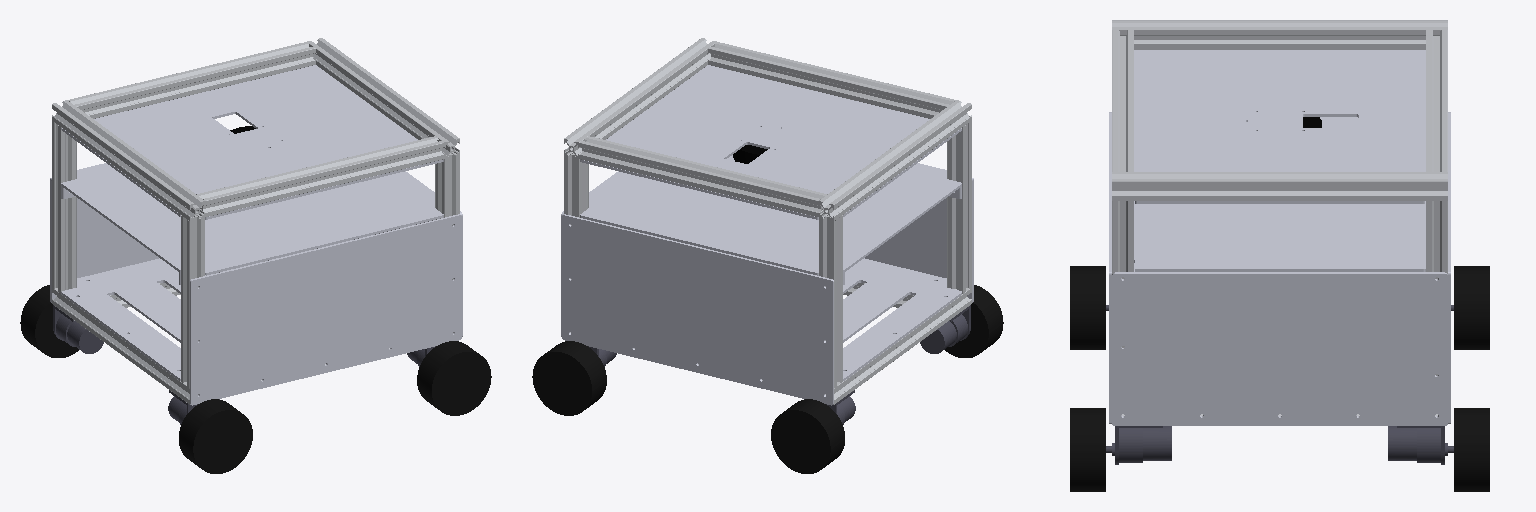
robot.urdf — more_tea:
<?xml version="1.0"?>
<!-- GENERATED by tools/generate_urdf.py from Fusion 360 "MoreTea's Body v5" (MORE-TEA / Navigation). Do not hand-edit; edit the generator or the Fusion model.
     Frames (REP-103): x forward = Fusion +X, y left = Fusion -Z, z up = Fusion +Y.  Units: metres, kg, radians.
     Fusion "Rigid Group 2" members -> fixed joints on base_link.  Fusion "Revolute 3..6" (wheel <-> motor mount) -> continuous joints. -->
<robot name="more_tea">
  <material name="aluminium"><color rgba="0.78 0.79 0.81 1"/></material>
  <material name="panel"><color rgba="0.82 0.83 0.88 1"/></material>
  <material name="rubber"><color rgba="0.12 0.12 0.12 1"/></material>
  <material name="motor"><color rgba="0.35 0.35 0.40 1"/></material>
  <material name="lidar"><color rgba="0.05 0.05 0.05 1"/></material>

  <!-- ground projection (REP-105) -->
  <link name="base_footprint"/>
  <joint name="base_footprint_joint" type="fixed">
    <parent link="base_footprint"/>
    <child link="base_link"/>
    <origin xyz="0 0 0.0375" rpy="0 0 0"/>
  </joint>

  <!-- chassis: the whole Fusion rigid group as ONE rigid body (aggregate inertial + box collision); the part links below are visual-only frames -->
  <link name="base_link">
    <inertial>
      <origin xyz="0.005914 -0.000041 0.148923" rpy="0 0 0"/>
      <mass value="5.084821"/>
      <inertia ixx="9.660358e-02" ixy="-1.139648e-06" ixz="1.126189e-03" iyy="1.051154e-01" iyz="3.052769e-05" izz="1.098142e-01"/>
    </inertial>
    <collision>
      <origin xyz="0.001497 0.000000 0.154000" rpy="0 0 0"/>
      <geometry><box size="0.343025 0.306020 0.240020"/></geometry>
    </collision>
  </link>

  <!-- ===== Fusion Rigid Group members : fixed joints ===== -->
  <link name="bottom_panel_link">
    <visual>
      <origin xyz="0.000011 0.000000 -0.001500" rpy="1.570796 0.000000 1.570796"/>
      <geometry><mesh filename="package://more_tea_base_description/meshes/visual/bottom_panel.stl"/></geometry>
      <material name="panel"/>
    </visual>
  </link>
  <joint name="bottom_panel_joint" type="fixed">
    <parent link="base_link"/>
    <child link="bottom_panel_link"/>
    <origin xyz="-0.000011 0.000129 0.055500" rpy="0 0 0"/>
  </joint>
  <link name="fb_side_panel_link">
    <visual>
      <origin xyz="-0.001500 0.000000 -0.000044" rpy="1.570796 0.000000 0.000000"/>
      <geometry><mesh filename="package://more_tea_base_description/meshes/visual/fb_side_panel.stl"/></geometry>
      <material name="panel"/>
    </visual>
  </link>
  <joint name="fb_side_panel_joint" type="fixed">
    <parent link="base_link"/>
    <child link="fb_side_panel_link"/>
    <origin xyz="0.171500 0.000000 0.109044" rpy="0 0 0"/>
  </joint>
  <link name="front_left_motor_link">
    <visual>
      <origin xyz="0.000000 0.025209 -0.009733" rpy="0.000000 0.000000 1.570796"/>
      <geometry><mesh filename="package://more_tea_base_description/meshes/visual/shared_moteur_v8_v2.stl"/></geometry>
      <material name="motor"/>
    </visual>
  </link>
  <joint name="front_left_motor_joint" type="fixed">
    <parent link="base_link"/>
    <child link="front_left_motor_link"/>
    <origin xyz="0.149651 0.124591 0.009733" rpy="0 0 0"/>
  </joint>
  <link name="front_right_motor_link">
    <visual>
      <origin xyz="0.000000 -0.025209 -0.009733" rpy="-3.141593 0.000000 -1.570796"/>
      <geometry><mesh filename="package://more_tea_base_description/meshes/visual/shared_moteur_v8_v2_2.stl"/></geometry>
      <material name="motor"/>
    </visual>
  </link>
  <joint name="front_right_motor_joint" type="fixed">
    <parent link="base_link"/>
    <child link="front_right_motor_link"/>
    <origin xyz="0.149651 -0.124591 0.009733" rpy="0 0 0"/>
  </joint>
  <link name="lidar_holder_link">
    <visual>
      <origin xyz="0.000000 0.000681 -0.001500" rpy="1.570796 0.000000 -1.570796"/>
      <geometry><mesh filename="package://more_tea_base_description/meshes/visual/lidar_holder.stl"/></geometry>
      <material name="panel"/>
    </visual>
  </link>
  <joint name="lidar_holder_joint" type="fixed">
    <parent link="base_link"/>
    <child link="lidar_holder_link"/>
    <origin xyz="0.000000 -0.000552 0.252500" rpy="0 0 0"/>
  </joint>
  <link name="lr_side_panel_left_link">
    <visual>
      <origin xyz="0.000000 0.001500 -0.000037" rpy="1.570796 0.000000 0.000000"/>
      <geometry><mesh filename="package://more_tea_base_description/meshes/visual/shared_lr_side_panel_v5.stl"/></geometry>
      <material name="panel"/>
    </visual>
  </link>
  <joint name="lr_side_panel_left_joint" type="fixed">
    <parent link="base_link"/>
    <child link="lr_side_panel_left_link"/>
    <origin xyz="0.000000 0.151500 0.109037" rpy="0 0 0"/>
  </joint>
  <link name="lr_side_panel_right_link">
    <visual>
      <origin xyz="0.000000 0.001500 -0.000037" rpy="1.570796 0.000000 0.000000"/>
      <geometry><mesh filename="package://more_tea_base_description/meshes/visual/shared_lr_side_panel_v5.stl"/></geometry>
      <material name="panel"/>
    </visual>
  </link>
  <joint name="lr_side_panel_right_joint" type="fixed">
    <parent link="base_link"/>
    <child link="lr_side_panel_right_link"/>
    <origin xyz="0.000000 -0.151500 0.109037" rpy="0 0 0"/>
  </joint>
  <link name="middle_panel_link">
    <visual>
      <origin xyz="-0.000009 0.000012 -0.001338" rpy="1.570796 0.000000 1.570796"/>
      <geometry><mesh filename="package://more_tea_base_description/meshes/visual/middle_panel.stl"/></geometry>
      <material name="panel"/>
    </visual>
  </link>
  <joint name="middle_panel_joint" type="fixed">
    <parent link="base_link"/>
    <child link="middle_panel_link"/>
    <origin xyz="0.000003 0.000135 0.185467" rpy="0 0 0"/>
  </joint>
  <link name="post_front_left_link">
    <visual>
      <origin xyz="0.000000 0.000037 0.000000" rpy="-1.570796 0.000000 0.000000"/>
      <geometry><mesh filename="package://more_tea_base_description/meshes/visual/shared_2020_200mm_base_v2.stl"/></geometry>
      <material name="aluminium"/>
    </visual>
  </link>
  <joint name="post_front_left_joint" type="fixed">
    <parent link="base_link"/>
    <child link="post_front_left_link"/>
    <origin xyz="0.160000 0.139963 0.154000" rpy="0 0 0"/>
  </joint>
  <link name="post_front_right_link">
    <visual>
      <origin xyz="0.000000 0.000037 0.000000" rpy="-1.570796 0.000000 0.000000"/>
      <geometry><mesh filename="package://more_tea_base_description/meshes/visual/shared_2020_200mm_base_v2.stl"/></geometry>
      <material name="aluminium"/>
    </visual>
  </link>
  <joint name="post_front_right_joint" type="fixed">
    <parent link="base_link"/>
    <child link="post_front_right_link"/>
    <origin xyz="0.160000 -0.140037 0.154000" rpy="0 0 0"/>
  </joint>
  <link name="post_rear_left_link">
    <visual>
      <origin xyz="0.000000 0.000037 0.000000" rpy="-1.570796 0.000000 0.000000"/>
      <geometry><mesh filename="package://more_tea_base_description/meshes/visual/shared_2020_200mm_base_v2.stl"/></geometry>
      <material name="aluminium"/>
    </visual>
  </link>
  <joint name="post_rear_left_joint" type="fixed">
    <parent link="base_link"/>
    <child link="post_rear_left_link"/>
    <origin xyz="-0.160000 0.139963 0.154000" rpy="0 0 0"/>
  </joint>
  <link name="post_rear_right_link">
    <visual>
      <origin xyz="0.000000 0.000037 0.000000" rpy="-1.570796 0.000000 0.000000"/>
      <geometry><mesh filename="package://more_tea_base_description/meshes/visual/shared_2020_200mm_base_v2.stl"/></geometry>
      <material name="aluminium"/>
    </visual>
  </link>
  <joint name="post_rear_right_joint" type="fixed">
    <parent link="base_link"/>
    <child link="post_rear_right_link"/>
    <origin xyz="-0.160000 -0.140037 0.154000" rpy="0 0 0"/>
  </joint>
  <link name="rail_bottom_front_link">
    <visual>
      <origin xyz="0.000000 -0.150000 -0.000037" rpy="0.000000 0.000000 0.000000"/>
      <geometry><mesh filename="package://more_tea_base_description/meshes/visual/shared_2020_300mm_v1.stl"/></geometry>
      <material name="aluminium"/>
    </visual>
  </link>
  <joint name="rail_bottom_front_joint" type="fixed">
    <parent link="base_link"/>
    <child link="rail_bottom_front_link"/>
    <origin xyz="0.160000 0.000000 0.044037" rpy="0 0 0"/>
  </joint>
  <link name="rail_bottom_left_inner_link">
    <visual>
      <origin xyz="0.150000 0.000000 -0.000037" rpy="0.000000 0.000000 1.570796"/>
      <geometry><mesh filename="package://more_tea_base_description/meshes/visual/shared_2020_300mm_v1.stl"/></geometry>
      <material name="aluminium"/>
    </visual>
  </link>
  <joint name="rail_bottom_left_inner_joint" type="fixed">
    <parent link="base_link"/>
    <child link="rail_bottom_left_inner_link"/>
    <origin xyz="0.000000 0.110000 0.044037" rpy="0 0 0"/>
  </joint>
  <link name="rail_bottom_left_outer_link">
    <visual>
      <origin xyz="0.150000 0.000000 -0.000037" rpy="0.000000 0.000000 1.570796"/>
      <geometry><mesh filename="package://more_tea_base_description/meshes/visual/shared_2020_300mm_v1.stl"/></geometry>
      <material name="aluminium"/>
    </visual>
  </link>
  <joint name="rail_bottom_left_outer_joint" type="fixed">
    <parent link="base_link"/>
    <child link="rail_bottom_left_outer_link"/>
    <origin xyz="0.000000 0.140000 0.044037" rpy="0 0 0"/>
  </joint>
  <link name="rail_bottom_rear_link">
    <visual>
      <origin xyz="0.000000 -0.150000 -0.000037" rpy="0.000000 0.000000 0.000000"/>
      <geometry><mesh filename="package://more_tea_base_description/meshes/visual/shared_2020_300mm_v1.stl"/></geometry>
      <material name="aluminium"/>
    </visual>
  </link>
  <joint name="rail_bottom_rear_joint" type="fixed">
    <parent link="base_link"/>
    <child link="rail_bottom_rear_link"/>
    <origin xyz="-0.160000 0.000000 0.044037" rpy="0 0 0"/>
  </joint>
  <link name="rail_bottom_right_inner_link">
    <visual>
      <origin xyz="-0.150000 0.000000 -0.000037" rpy="0.000000 0.000000 -1.570796"/>
      <geometry><mesh filename="package://more_tea_base_description/meshes/visual/shared_2020_300mm_v1.stl"/></geometry>
      <material name="aluminium"/>
    </visual>
  </link>
  <joint name="rail_bottom_right_inner_joint" type="fixed">
    <parent link="base_link"/>
    <child link="rail_bottom_right_inner_link"/>
    <origin xyz="0.000000 -0.110000 0.044037" rpy="0 0 0"/>
  </joint>
  <link name="rail_bottom_right_outer_link">
    <visual>
      <origin xyz="-0.150000 0.000000 -0.000037" rpy="0.000000 0.000000 -1.570796"/>
      <geometry><mesh filename="package://more_tea_base_description/meshes/visual/shared_2020_300mm_v1.stl"/></geometry>
      <material name="aluminium"/>
    </visual>
  </link>
  <joint name="rail_bottom_right_outer_joint" type="fixed">
    <parent link="base_link"/>
    <child link="rail_bottom_right_outer_link"/>
    <origin xyz="0.000000 -0.140000 0.044037" rpy="0 0 0"/>
  </joint>
  <link name="rail_top_front_link">
    <visual>
      <origin xyz="0.000000 -0.150000 -0.000037" rpy="0.000000 0.000000 0.000000"/>
      <geometry><mesh filename="package://more_tea_base_description/meshes/visual/shared_2020_300mm_v1.stl"/></geometry>
      <material name="aluminium"/>
    </visual>
  </link>
  <joint name="rail_top_front_joint" type="fixed">
    <parent link="base_link"/>
    <child link="rail_top_front_link"/>
    <origin xyz="0.160000 0.000000 0.264037" rpy="0 0 0"/>
  </joint>
  <link name="rail_top_left_link">
    <visual>
      <origin xyz="0.150000 0.000000 -0.000037" rpy="0.000000 0.000000 1.570796"/>
      <geometry><mesh filename="package://more_tea_base_description/meshes/visual/shared_2020_300mm_v1.stl"/></geometry>
      <material name="aluminium"/>
    </visual>
  </link>
  <joint name="rail_top_left_joint" type="fixed">
    <parent link="base_link"/>
    <child link="rail_top_left_link"/>
    <origin xyz="0.000000 0.140000 0.264037" rpy="0 0 0"/>
  </joint>
  <link name="rail_top_rear_link">
    <visual>
      <origin xyz="0.000000 -0.150000 -0.000037" rpy="0.000000 0.000000 0.000000"/>
      <geometry><mesh filename="package://more_tea_base_description/meshes/visual/shared_2020_300mm_v1.stl"/></geometry>
      <material name="aluminium"/>
    </visual>
  </link>
  <joint name="rail_top_rear_joint" type="fixed">
    <parent link="base_link"/>
    <child link="rail_top_rear_link"/>
    <origin xyz="-0.160000 0.000000 0.264037" rpy="0 0 0"/>
  </joint>
  <link name="rail_top_right_link">
    <visual>
      <origin xyz="-0.150000 0.000000 -0.000037" rpy="0.000000 0.000000 -1.570796"/>
      <geometry><mesh filename="package://more_tea_base_description/meshes/visual/shared_2020_300mm_v1.stl"/></geometry>
      <material name="aluminium"/>
    </visual>
  </link>
  <joint name="rail_top_right_joint" type="fixed">
    <parent link="base_link"/>
    <child link="rail_top_right_link"/>
    <origin xyz="0.000000 -0.140000 0.264037" rpy="0 0 0"/>
  </joint>
  <link name="rear_left_motor_link">
    <visual>
      <origin xyz="0.000000 0.025209 -0.009733" rpy="-3.141593 0.000000 1.570796"/>
      <geometry><mesh filename="package://more_tea_base_description/meshes/visual/shared_moteur_v8_v2_2.stl"/></geometry>
      <material name="motor"/>
    </visual>
  </link>
  <joint name="rear_left_motor_joint" type="fixed">
    <parent link="base_link"/>
    <child link="rear_left_motor_link"/>
    <origin xyz="-0.149651 0.124591 0.009733" rpy="0 0 0"/>
  </joint>
  <link name="rear_right_motor_link">
    <visual>
      <origin xyz="0.000000 -0.025209 -0.009733" rpy="0.000000 0.000000 -1.570796"/>
      <geometry><mesh filename="package://more_tea_base_description/meshes/visual/shared_moteur_v8_v2.stl"/></geometry>
      <material name="motor"/>
    </visual>
  </link>
  <joint name="rear_right_motor_joint" type="fixed">
    <parent link="base_link"/>
    <child link="rear_right_motor_link"/>
    <origin xyz="-0.149651 -0.124591 0.009733" rpy="0 0 0"/>
  </joint>
  <link name="rplidar_link">
    <visual>
      <origin xyz="-0.000565 0.000015 0.009999" rpy="-1.570796 0.000000 1.570796"/>
      <geometry><mesh filename="package://more_tea_base_description/meshes/visual/rplidar.stl"/></geometry>
      <material name="lidar"/>
    </visual>
  </link>
  <joint name="rplidar_joint" type="fixed">
    <parent link="base_link"/>
    <child link="rplidar_link"/>
    <origin xyz="0.000565 -0.000067 0.231701" rpy="0 0 0"/>
  </joint>

  <!-- ===== Fusion Revolute joints -> continuous : wheel (child) on motor mount (parent). Axis = lateral (ROS y); +rotation drives the robot forward ===== -->
  <link name="front_left_wheel_link">
    <inertial>
      <origin xyz="0 0 0" rpy="0 0 0"/>
      <mass value="1.109768"/>
      <inertia ixx="4.848528e-04" ixy="0.000000e+00" ixz="0.000000e+00" iyy="7.803053e-04" iyz="1.421085e-18" izz="4.848528e-04"/>
    </inertial>
    <visual>
      <origin xyz="0.000000 -0.016000 0.000000" rpy="0.000000 1.570796 0.000000"/>
      <geometry><mesh filename="package://more_tea_base_description/meshes/visual/shared_mecanum_wheels_v2.stl"/></geometry>
      <material name="rubber"/>
    </visual>
    <collision>
      <origin xyz="0 0 0" rpy="1.5707963 0 0"/>
      <geometry><cylinder radius="0.0375" length="0.0320"/></geometry>
    </collision>
  </link>
  <joint name="front_left_wheel_joint" type="continuous">
    <parent link="front_left_motor_link"/>
    <child link="front_left_wheel_link"/>
    <origin xyz="0.000000 0.047209 -0.009733" rpy="0 0 0"/>
    <axis xyz="0 1 0"/>
    <dynamics damping="0.0" friction="0.0"/>
  </joint>
  <link name="front_right_wheel_link">
    <inertial>
      <origin xyz="0 0 0" rpy="0 0 0"/>
      <mass value="1.109768"/>
      <inertia ixx="4.848528e-04" ixy="0.000000e+00" ixz="0.000000e+00" iyy="7.803053e-04" iyz="-1.421085e-18" izz="4.848528e-04"/>
    </inertial>
    <visual>
      <origin xyz="0.000000 0.016000 0.000000" rpy="-3.141593 1.570796 0.000000"/>
      <geometry><mesh filename="package://more_tea_base_description/meshes/visual/shared_mecanum_wheels_v2_2.stl"/></geometry>
      <material name="rubber"/>
    </visual>
    <collision>
      <origin xyz="0 0 0" rpy="1.5707963 0 0"/>
      <geometry><cylinder radius="0.0375" length="0.0320"/></geometry>
    </collision>
  </link>
  <joint name="front_right_wheel_joint" type="continuous">
    <parent link="front_right_motor_link"/>
    <child link="front_right_wheel_link"/>
    <origin xyz="0.000000 -0.047209 -0.009733" rpy="0 0 0"/>
    <axis xyz="0 1 0"/>
    <dynamics damping="0.0" friction="0.0"/>
  </joint>
  <link name="rear_left_wheel_link">
    <inertial>
      <origin xyz="0 0 0" rpy="0 0 0"/>
      <mass value="1.109768"/>
      <inertia ixx="4.848528e-04" ixy="0.000000e+00" ixz="0.000000e+00" iyy="7.803053e-04" iyz="1.421085e-18" izz="4.848528e-04"/>
    </inertial>
    <visual>
      <origin xyz="0.000000 -0.016000 0.000000" rpy="0.000000 1.570796 0.000000"/>
      <geometry><mesh filename="package://more_tea_base_description/meshes/visual/shared_mecanum_wheels_v2_2.stl"/></geometry>
      <material name="rubber"/>
    </visual>
    <collision>
      <origin xyz="0 0 0" rpy="1.5707963 0 0"/>
      <geometry><cylinder radius="0.0375" length="0.0320"/></geometry>
    </collision>
  </link>
  <joint name="rear_left_wheel_joint" type="continuous">
    <parent link="rear_left_motor_link"/>
    <child link="rear_left_wheel_link"/>
    <origin xyz="0.000000 0.047209 -0.009733" rpy="0 0 0"/>
    <axis xyz="0 1 0"/>
    <dynamics damping="0.0" friction="0.0"/>
  </joint>
  <link name="rear_right_wheel_link">
    <inertial>
      <origin xyz="0 0 0" rpy="0 0 0"/>
      <mass value="1.109768"/>
      <inertia ixx="4.848528e-04" ixy="0.000000e+00" ixz="0.000000e+00" iyy="7.803053e-04" iyz="-1.421085e-18" izz="4.848528e-04"/>
    </inertial>
    <visual>
      <origin xyz="0.000000 0.016000 0.000000" rpy="3.141593 1.570796 0.000000"/>
      <geometry><mesh filename="package://more_tea_base_description/meshes/visual/shared_mecanum_wheels_v2.stl"/></geometry>
      <material name="rubber"/>
    </visual>
    <collision>
      <origin xyz="0 0 0" rpy="1.5707963 0 0"/>
      <geometry><cylinder radius="0.0375" length="0.0320"/></geometry>
    </collision>
  </link>
  <joint name="rear_right_wheel_joint" type="continuous">
    <parent link="rear_right_motor_link"/>
    <child link="rear_right_wheel_link"/>
    <origin xyz="0.000000 -0.047209 -0.009733" rpy="0 0 0"/>
    <axis xyz="0 1 0"/>
    <dynamics damping="0.0" friction="0.0"/>
  </joint>

  <!-- 2D LiDAR scan frame (x = RPLIDAR zero-angle direction, assumed = robot forward). Scan-plane height is approximate (mid-height of the unit). -->
  <link name="laser"/>
  <joint name="laser_joint" type="fixed">
    <parent link="rplidar_link"/>
    <child link="laser"/>
    <origin xyz="-0.000565 0.000015 -0.001201" rpy="0 0 0"/>
  </joint>
</robot>

--- What the picture shows (computed from the rendered views, not written in the file) ---
Views: 3 orthographic renders of the robot side by side, from view 1: azimuth 30°, elevation 25°; view 2: azimuth 150°, elevation 25°; view 3: azimuth 270°, elevation 25°.
Model more_tea with 32 links and 31 joints (4 continuous, 27 fixed), rooted at base_footprint, posed every joint at zero.
Links seen in each view (by area): view 1: lr_side_panel_right_link, lidar_holder_link, middle_panel_link, bottom_panel_link, rail_top_right_link, rail_top_left_link, rail_top_rear_link, front_right_wheel_link, rear_right_wheel_link, rail_top_front_link, post_rear_left_link, lr_side_panel_left_link (+5 smaller); view 2: lr_side_panel_left_link, lidar_holder_link, middle_panel_link, bottom_panel_link, rail_top_left_link, rail_top_right_link, rail_top_rear_link, front_left_wheel_link, rear_left_wheel_link, rail_top_front_link, post_rear_right_link, lr_side_panel_right_link (+5 smaller); view 3: fb_side_panel_link, lidar_holder_link, middle_panel_link, rail_top_front_link, rail_top_rear_link, rail_top_left_link, rail_top_right_link, front_left_wheel_link, front_right_wheel_link, rear_left_wheel_link, rear_right_wheel_link, front_left_motor_link (+5 smaller).
Boxes of the visible links, <box> form: lr_side_panel_right_link: <box>190,214,461,405</box>; lidar_holder_link: <box>61,65,443,219</box>; middle_panel_link: <box>61,163,443,284</box>; bottom_panel_link: <box>61,240,350,380</box>; rail_top_right_link: <box>196,136,444,216</box>; rail_top_left_link: <box>68,42,315,118</box>; rail_top_rear_link: <box>52,100,204,220</box>; front_right_wheel_link: <box>417,341,491,415</box>; rear_right_wheel_link: <box>179,399,252,473</box>; rail_top_front_link: <box>307,38,459,158</box>; post_rear_left_link: <box>52,121,76,293</box>; lr_side_panel_left_link: <box>50,178,158,302</box>; lr_side_panel_left_link: <box>562,214,833,405</box>; lidar_holder_link: <box>580,65,961,219</box>; middle_panel_link: <box>580,155,961,284</box>; bottom_panel_link: <box>689,244,961,380</box>; rail_top_left_link: <box>579,136,827,216</box>; rail_top_right_link: <box>708,42,955,118</box>; rail_top_rear_link: <box>819,100,971,220</box>; front_left_wheel_link: <box>532,341,606,415</box>; rear_left_wheel_link: <box>771,399,844,473</box>; rail_top_front_link: <box>564,38,716,158</box>; post_rear_right_link: <box>947,121,971,293</box>; lr_side_panel_right_link: <box>865,178,973,302</box>; fb_side_panel_link: <box>1112,272,1447,425</box>; lidar_holder_link: <box>1134,50,1425,203</box>; middle_panel_link: <box>1134,117,1425,271</box>; rail_top_front_link: <box>1112,172,1447,200</box>; rail_top_rear_link: <box>1112,20,1447,49</box>; rail_top_left_link: <box>1426,30,1447,171</box>; rail_top_right_link: <box>1112,30,1133,171</box>; front_left_wheel_link: <box>1454,408,1489,491</box>; front_right_wheel_link: <box>1070,408,1105,491</box>; rear_left_wheel_link: <box>1454,266,1489,349</box>; rear_right_wheel_link: <box>1070,266,1105,349</box>; front_left_motor_link: <box>1388,426,1453,464</box>.
Size in the robot's own frame: 0.3743 by 0.3756 by 0.3115 metres.
Meshes: 12 distinct files referenced, 29 mesh visuals loaded (12 binary STL).
